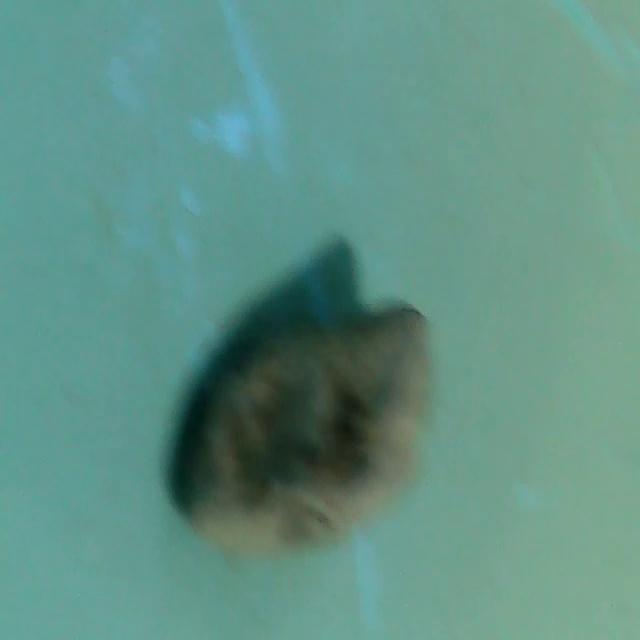rock: (169, 296, 437, 564)
